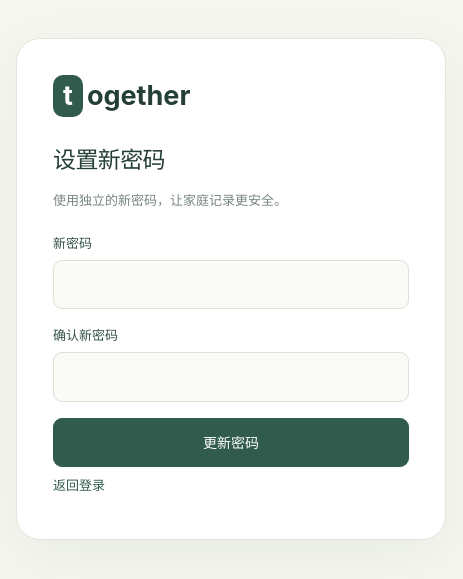
it: 恢复链接验证后才能更新密码，拒绝不一致的密码，成功后退出登录
The image size is (463, 579).
Type "new-fixture-password" into the password field labelled "新密码". click: (231, 285)
box: left=53, top=260, right=409, bottom=309
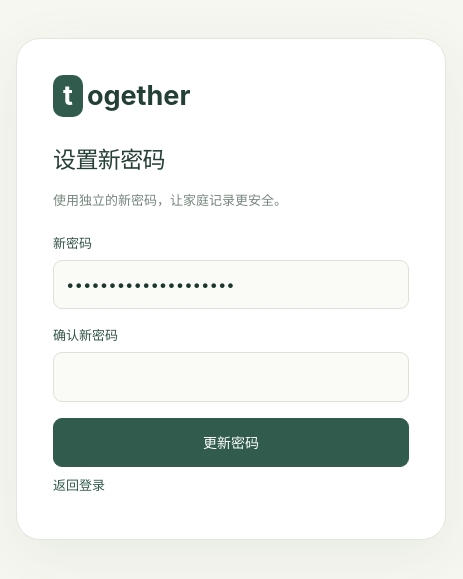
Type "different-fixture" into the password field labelled "确认新密码". click: (231, 377)
box: left=53, top=352, right=409, bottom=402
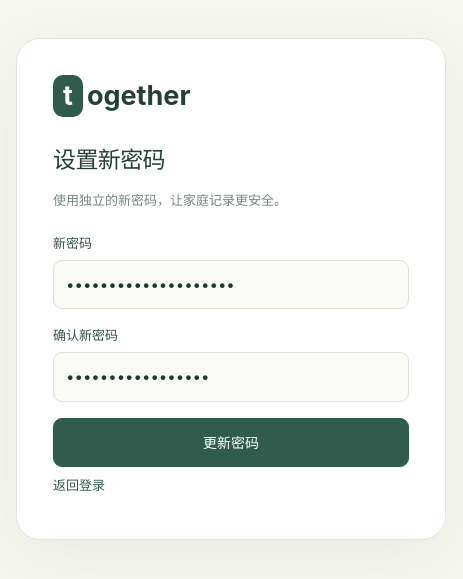
Click the button "更新密码". click: (231, 442)
box: left=53, top=418, right=409, bottom=467
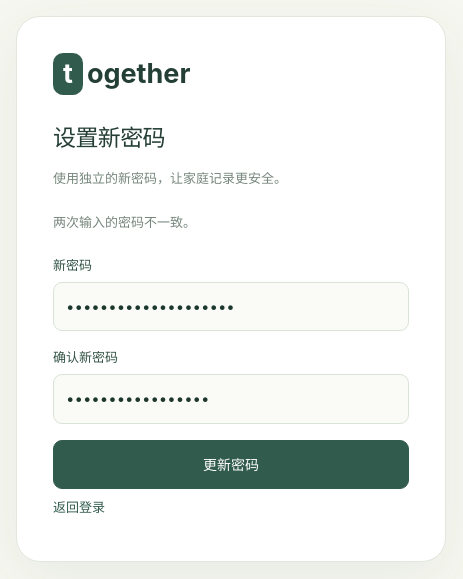
Check: the message shows "不一致", box left=53, top=214, right=196, bottom=230
Type "new-fixture-password" into the password field labelled "确认新密码". click: (231, 399)
box: left=53, top=374, right=409, bottom=424
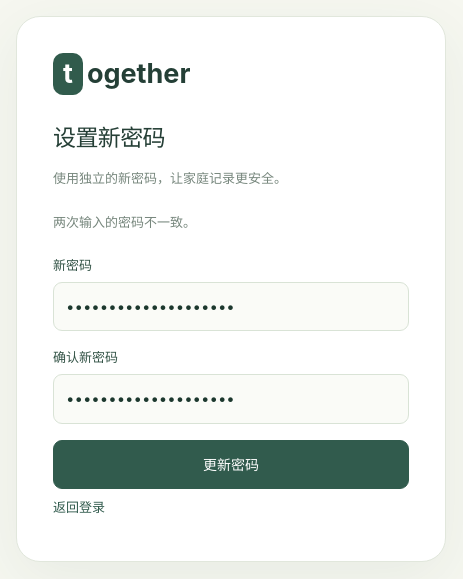
Click the button "更新密码". click: (231, 465)
box: left=53, top=440, right=409, bottom=489
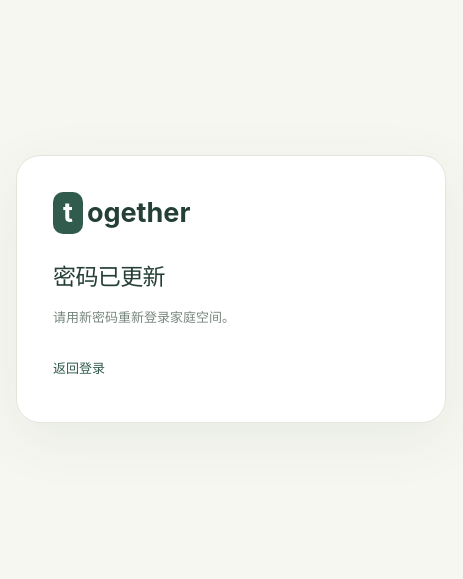
Check: the heading reads "密码已更新", box left=53, top=265, right=165, bottom=290
